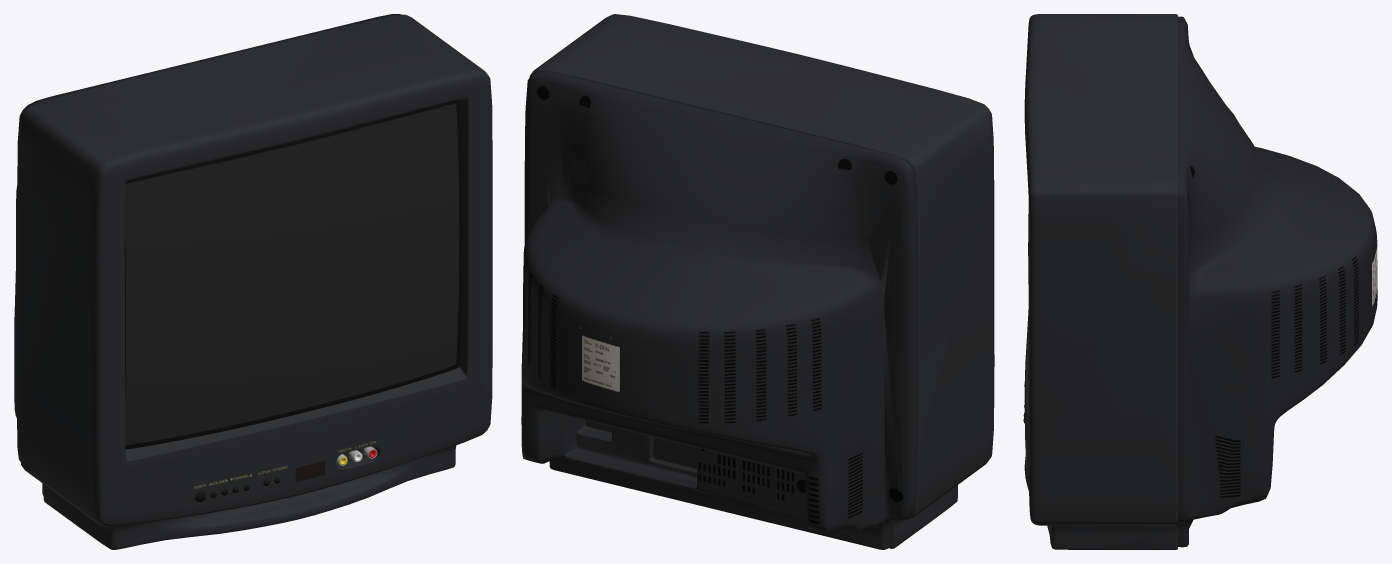
Rendered from CRT TV.fbx.
The picture shows the model from 3 angles, left to right: view 1: azimuth 30°, elevation 25°; view 2: azimuth 150°, elevation 25°; view 3: azimuth 270°, elevation 25°; orthographic projection. The views are drawn at different scales.
Visible parts, largest first — view 1: Front_section, Screen, rear_section; view 2: rear_section, Front_section; view 3: Front_section, rear_section.
Boxes of the visible parts, x1=… form: Front_section: x1=18, y1=14, x2=492, y2=549; Screen: x1=124, y1=100, x2=463, y2=449; rear_section: x1=14, y1=14, x2=401, y2=495; rear_section: x1=521, y1=71, x2=916, y2=549; Front_section: x1=529, y1=14, x2=994, y2=548; Front_section: x1=1024, y1=14, x2=1177, y2=549; rear_section: x1=1178, y1=16, x2=1377, y2=547.
Bounding box in the file's own units: 566 × 547 × 468.
